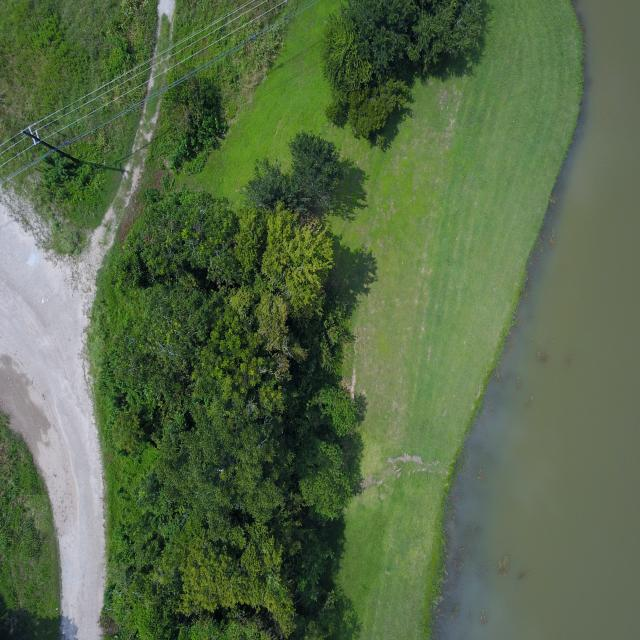fire: (434, 0, 640, 640)
